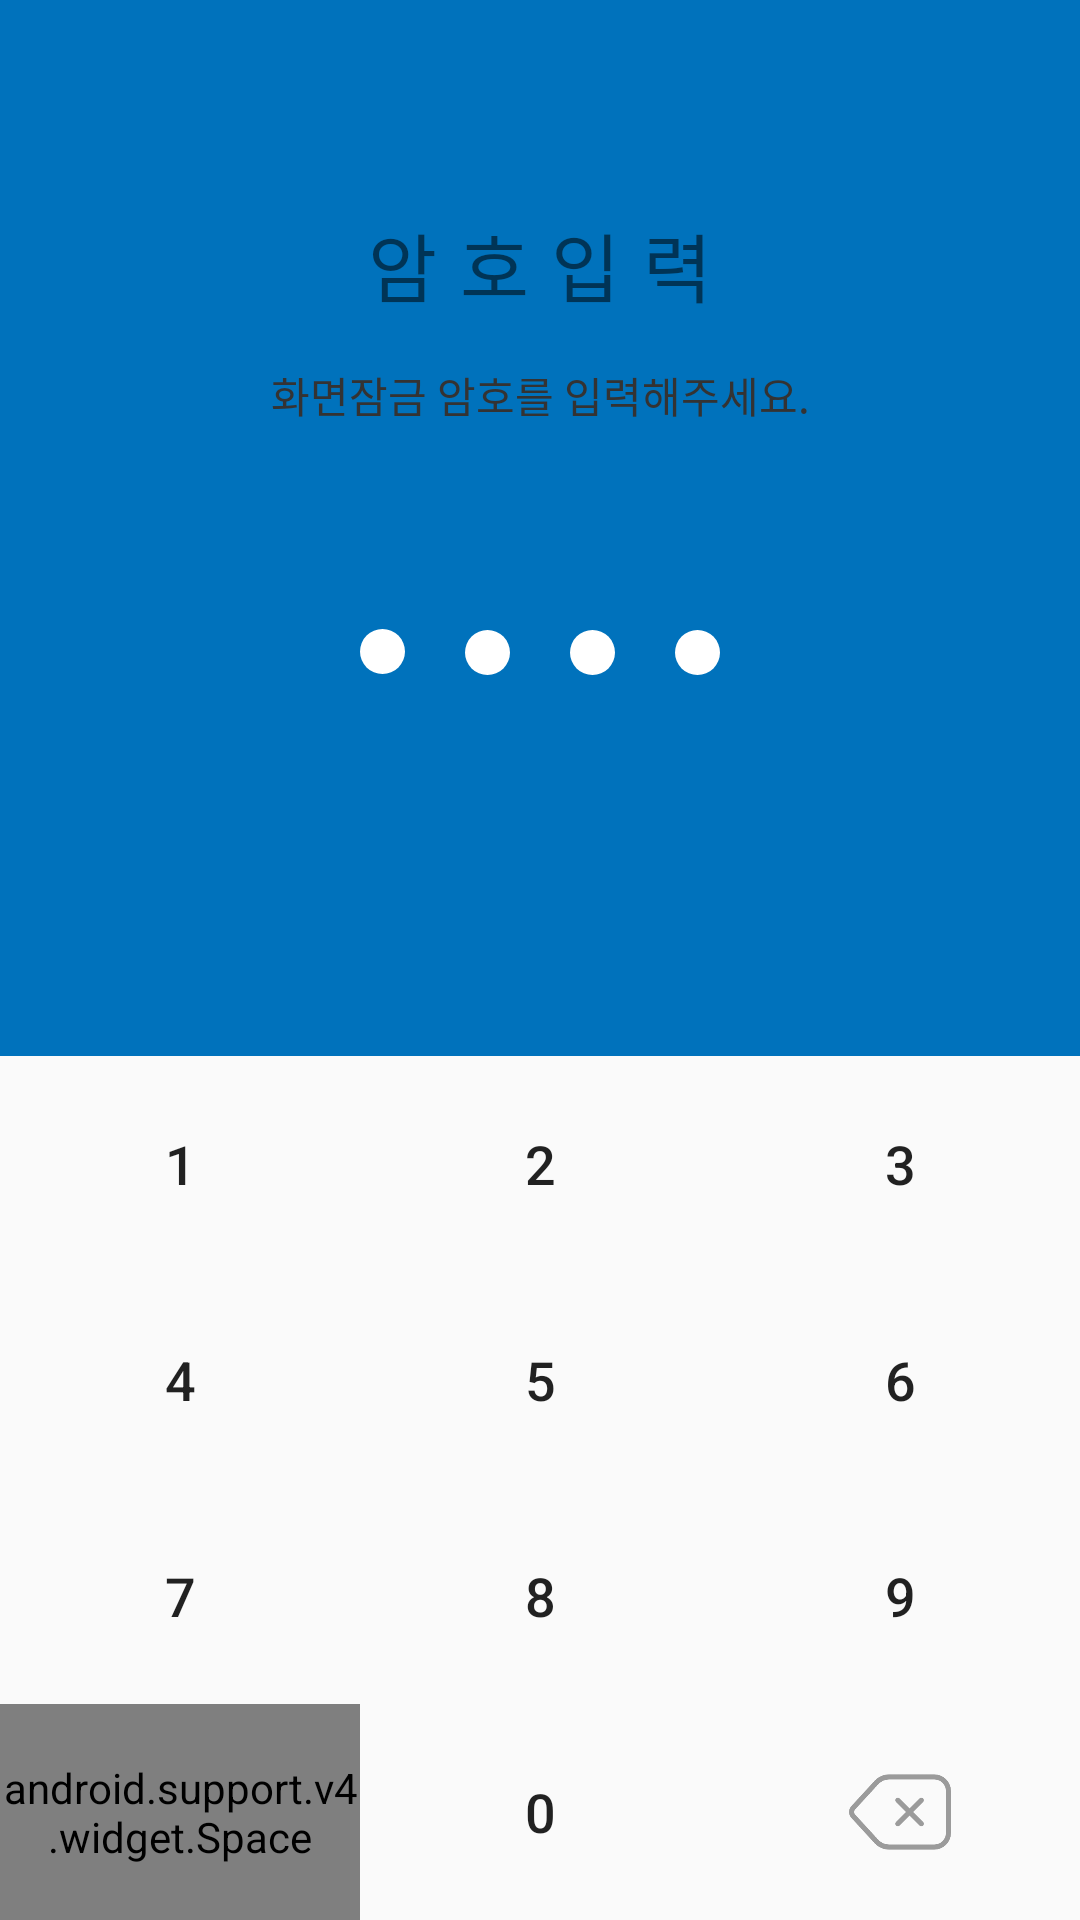

Point at icon controls on the screen. Image size 1080px x 1920px, points as (x,y).
delete: (900,1812)
